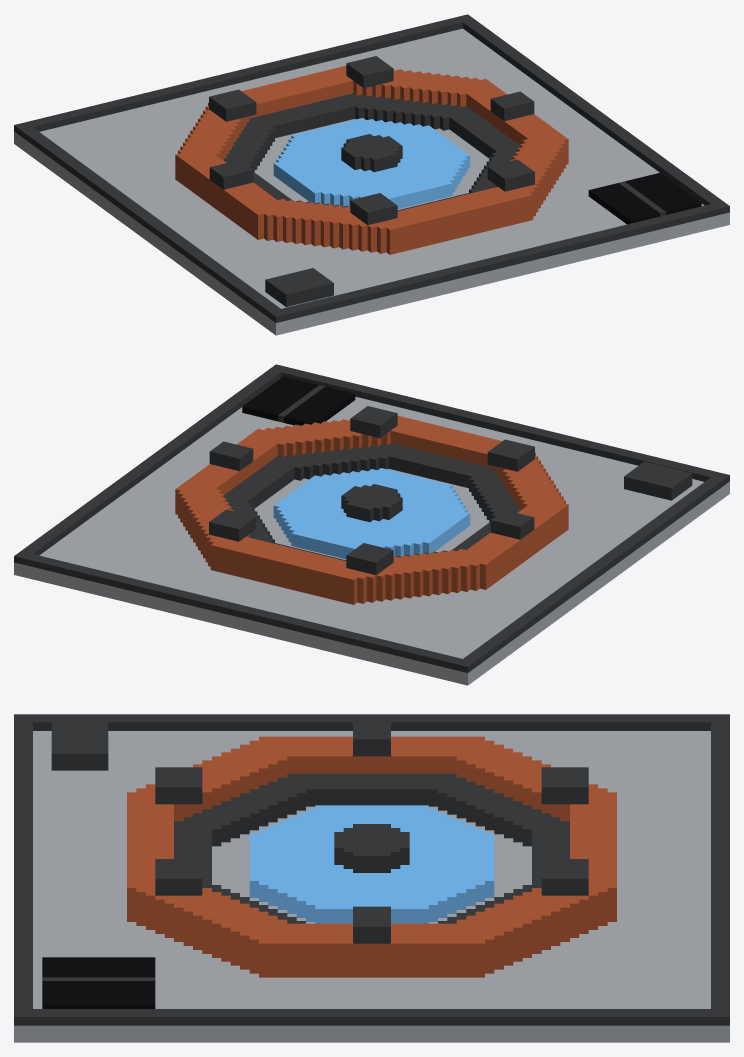
File: telepad.glb
3 renders of one model, top to bottom at view 1: azimuth 30°, elevation 25°; view 2: azimuth 150°, elevation 25°; view 3: azimuth 270°, elevation 25°, orthographic. The views are drawn at different scales.
Visible parts, largest first — view 1: telepad:compound; view 2: telepad:compound; view 3: telepad:compound.
Boxes of the visible parts, bbox=[...] form: telepad:compound: bbox=[14, 14, 729, 335]; telepad:compound: bbox=[14, 364, 729, 685]; telepad:compound: bbox=[14, 714, 729, 1042].
Size of the model in its own units: 0.304 by 0.032 by 0.304.
